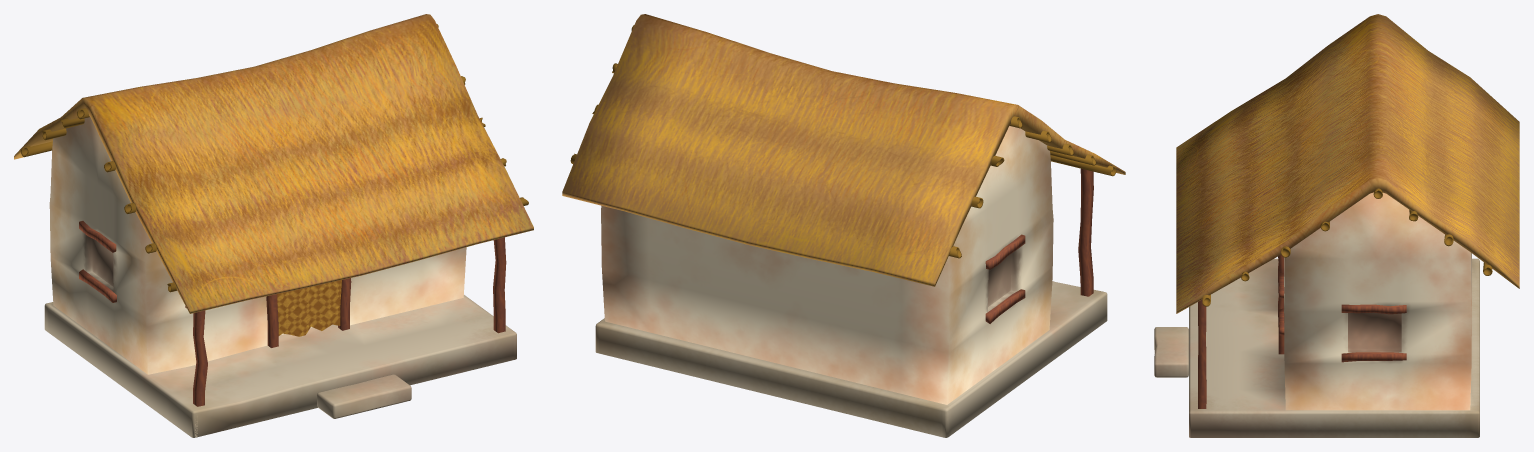
File: rumah1.glb
3 renders of one model, left to right at view 1: azimuth 30°, elevation 25°; view 2: azimuth 150°, elevation 25°; view 3: azimuth 270°, elevation 25°, orthographic. The views are drawn at different scales.
Parts seen in each view (by area): view 1: House; view 2: House; view 3: House.
Boxes of the visible parts, bbox=[...] form: House: bbox=[14, 14, 533, 437]; House: bbox=[562, 14, 1125, 437]; House: bbox=[1154, 14, 1519, 437].
Size of the model in its own units: 10.13 by 7.3 by 9.13.
1 material, 1 textured.
